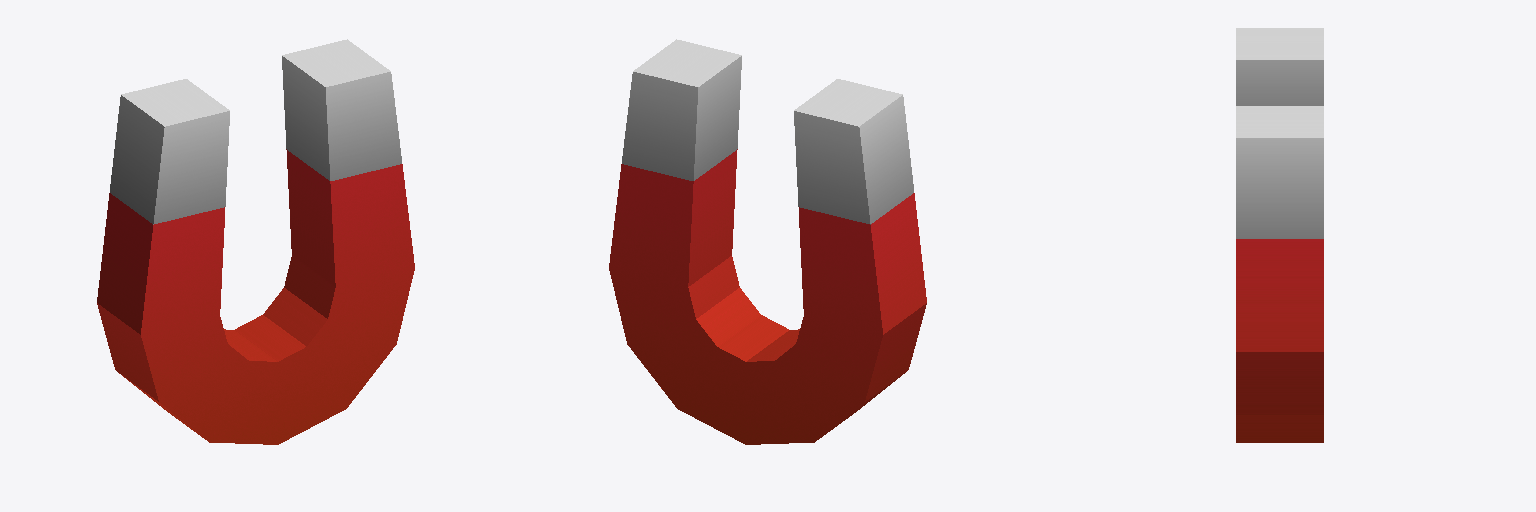
The picture shows the model from 3 angles: view 1: azimuth 30°, elevation 25°; view 2: azimuth 150°, elevation 25°; view 3: azimuth 270°, elevation 25°; orthographic projection.
Visible parts, largest first — view 1: Cylinder_Cylinder.002; view 2: Cylinder_Cylinder.002; view 3: Cylinder_Cylinder.002.
Boxes of the visible parts, x1,y1,x2,y2 form: Cylinder_Cylinder.002: [97, 39, 414, 444]; Cylinder_Cylinder.002: [609, 39, 926, 444]; Cylinder_Cylinder.002: [1236, 28, 1323, 442].
Bounding box in the file's own units: 0.437 × 0.5264 × 0.121.
1 materials, 1 textured.